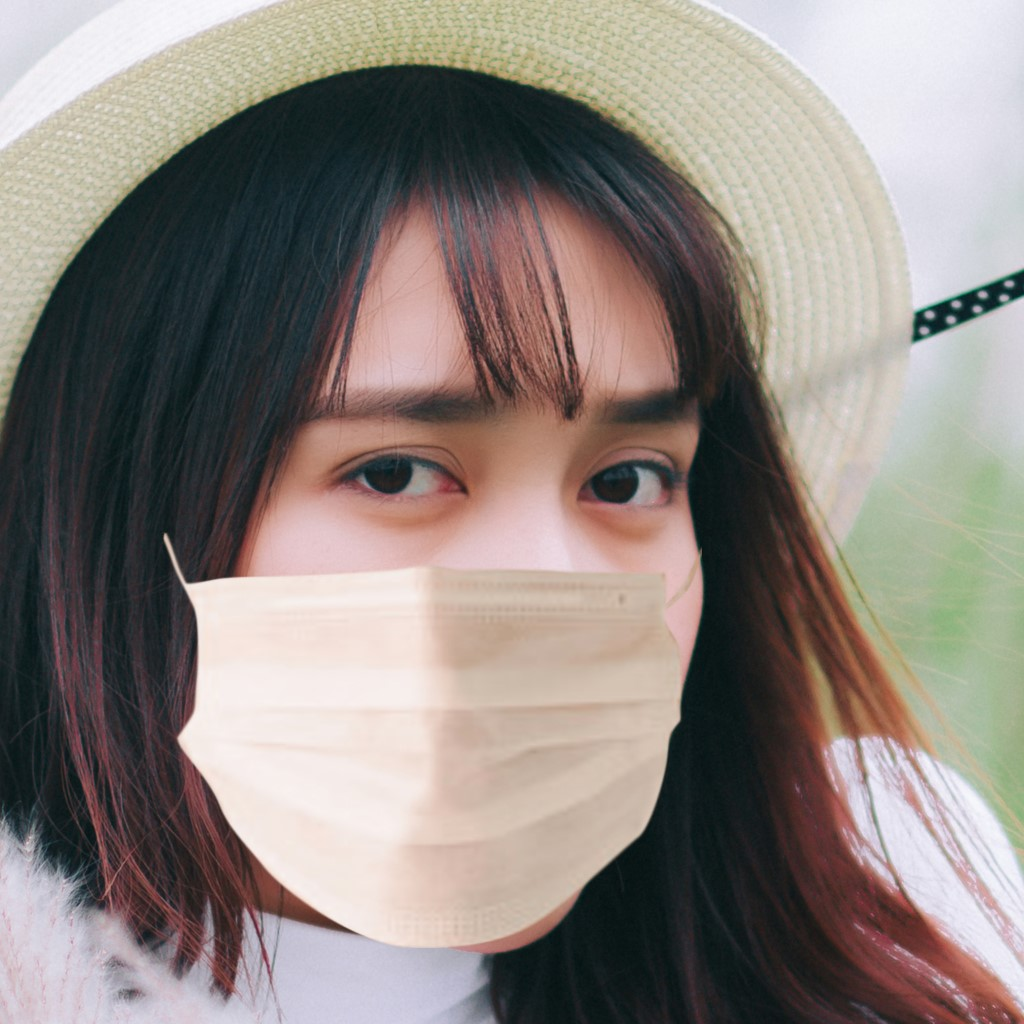con_mascara: (138, 197, 695, 945)
